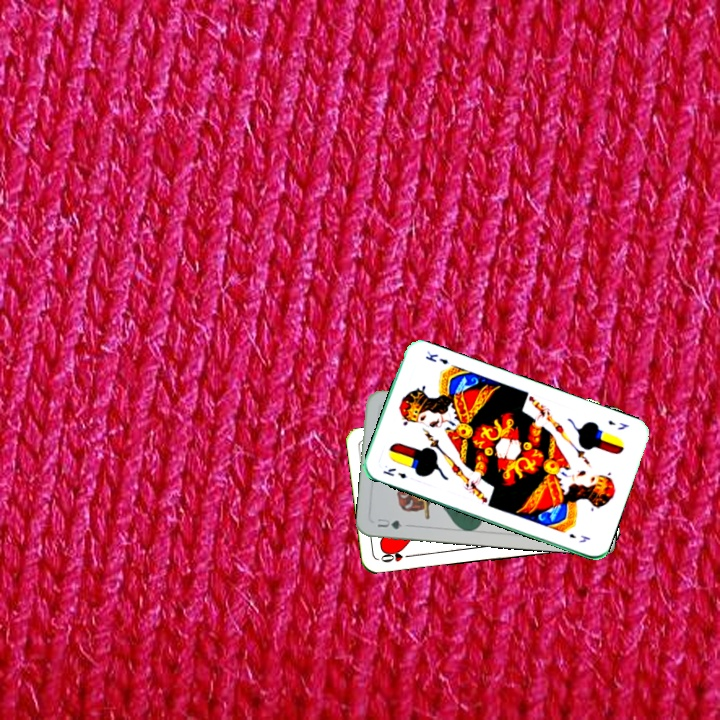EK: (379, 464, 409, 481), (604, 416, 631, 433)
GU: (373, 514, 405, 532)
HO: (377, 548, 416, 565)
